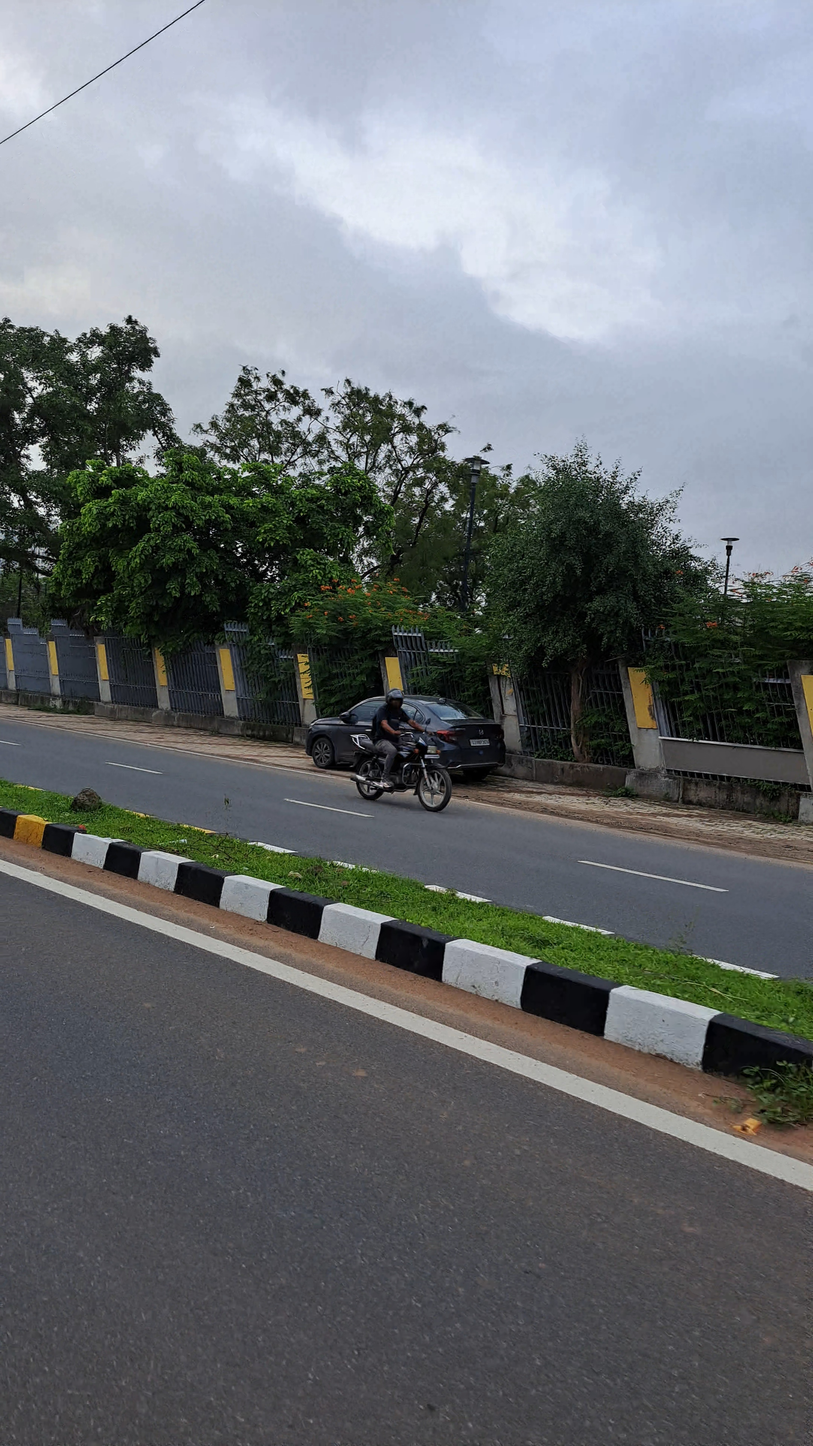BikeWithRider: (341, 685, 458, 818)
Helmet: (383, 688, 406, 711)
